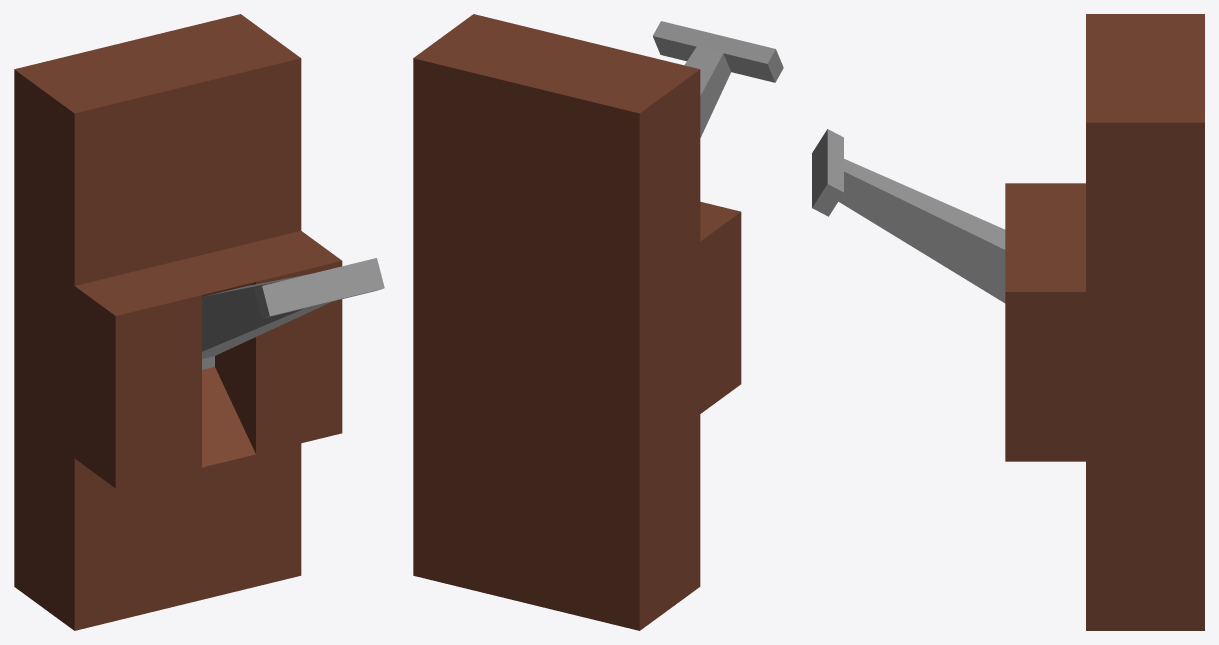
File: Lever.fbx
The picture shows the model from 3 angles, left to right: view 1: azimuth 30°, elevation 25°; view 2: azimuth 150°, elevation 25°; view 3: azimuth 270°, elevation 25°; orthographic projection.
Visible parts, largest first — view 1: Lever_Base, Lever; view 2: Lever_Base, Lever; view 3: Lever_Base, Lever.
Boxes of the visible parts, bbox=[...] form: Lever_Base: bbox=[14, 14, 342, 630]; Lever: bbox=[202, 258, 384, 358]; Lever_Base: bbox=[413, 14, 741, 630]; Lever: bbox=[653, 21, 783, 137]; Lever_Base: bbox=[1005, 14, 1204, 630]; Lever: bbox=[812, 129, 1005, 303].
Bounding box in the file's own units: 16.77 × 36.6 × 25.63.
